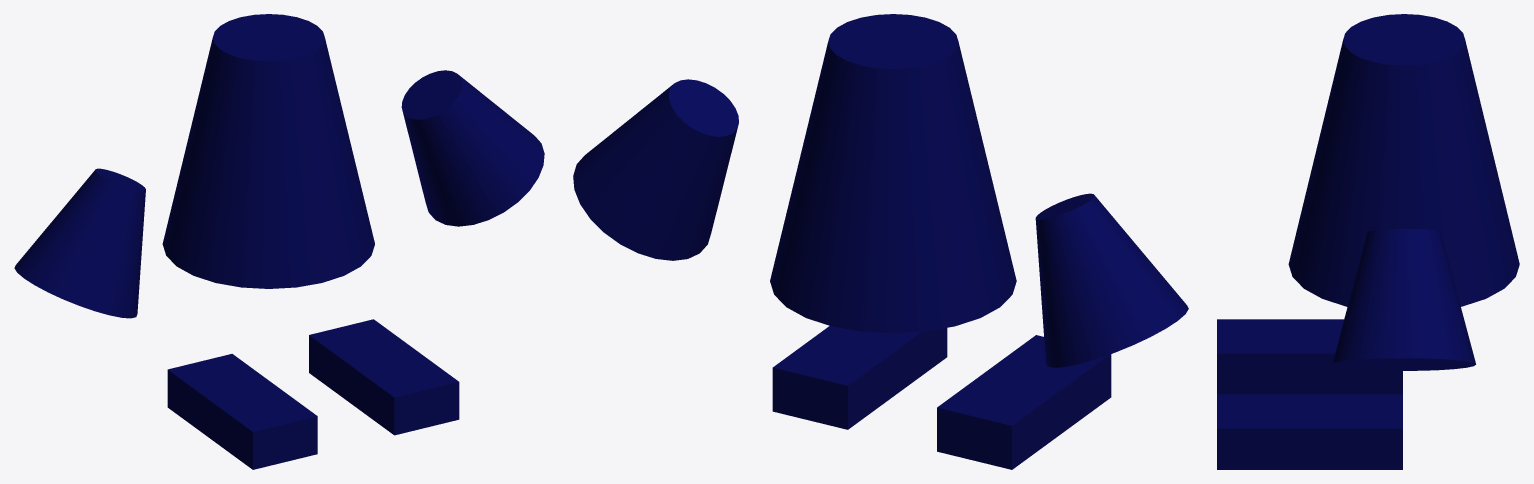
Rendered from ms_player_blue.FBX.
3 renders of one model, left to right at view 1: azimuth 30°, elevation 25°; view 2: azimuth 150°, elevation 25°; view 3: azimuth 270°, elevation 25°, orthographic. The views are drawn at different scales.
Parts seen in each view (by area): view 1: Cone017, Cone016, Cone018, Box018, Box017; view 2: Cone017, Cone016, Cone018, Box018, Box017; view 3: Cone017, Cone016, Box017, Box018.
Part boxes in pixels (box(x1,y1,x2,y2)): Cone017: box(162, 14, 374, 288); Cone016: box(401, 70, 544, 226); Cone018: box(14, 168, 145, 318); Box018: box(167, 354, 317, 469); Box017: box(309, 319, 459, 435); Cone017: box(770, 14, 1016, 333); Cone016: box(573, 79, 738, 260); Cone018: box(1035, 193, 1188, 367); Box018: box(937, 335, 1111, 469); Box017: box(772, 326, 947, 429); Cone017: box(1288, 14, 1519, 306); Cone016: box(1332, 229, 1475, 370); Box017: box(1217, 394, 1402, 469); Box018: box(1217, 319, 1402, 394).
Size of the model in its own units: 70.91 by 45.7 by 33.45.
